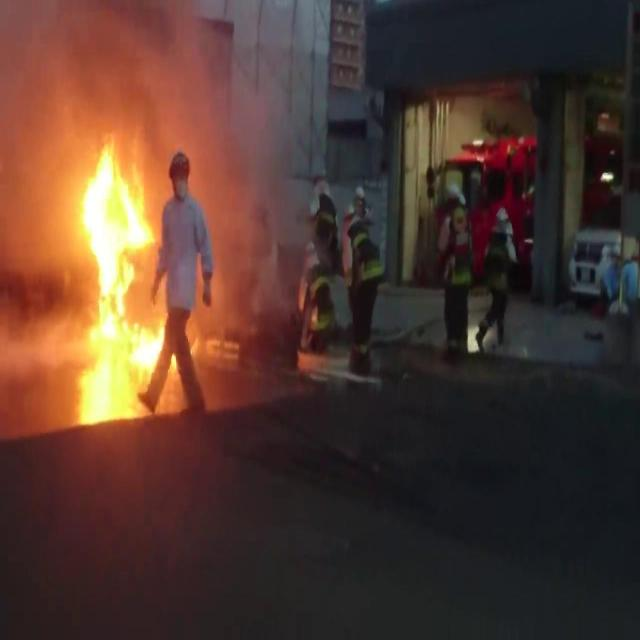Fire: (73, 161, 161, 370)
